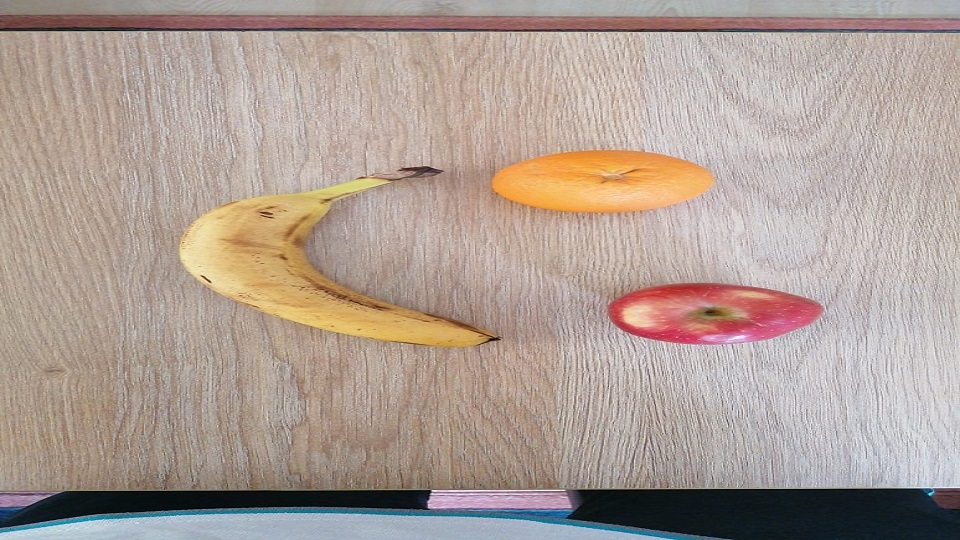elma: (606, 281, 826, 346)
muz: (177, 165, 499, 349)
portakal: (490, 148, 715, 213)
